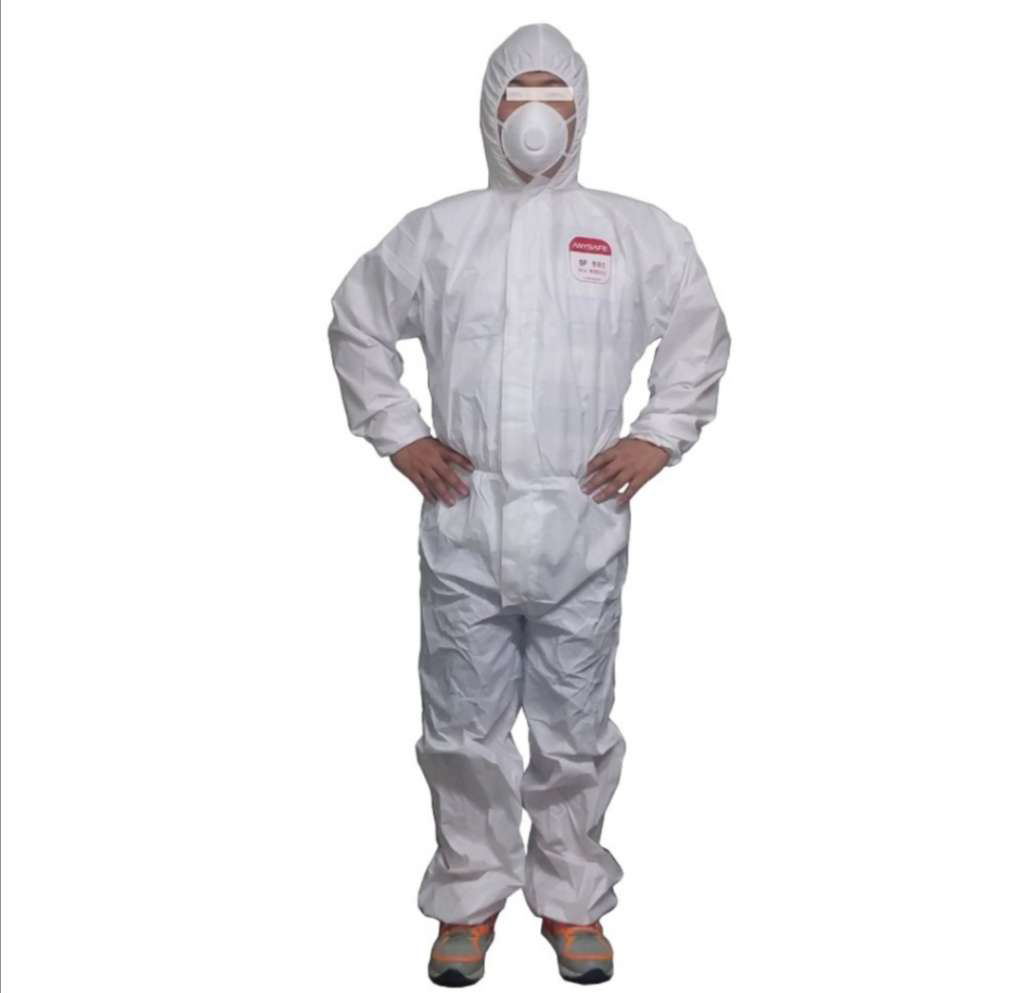Coverall: (327, 15, 724, 915)
with_mask: (495, 97, 574, 179)
